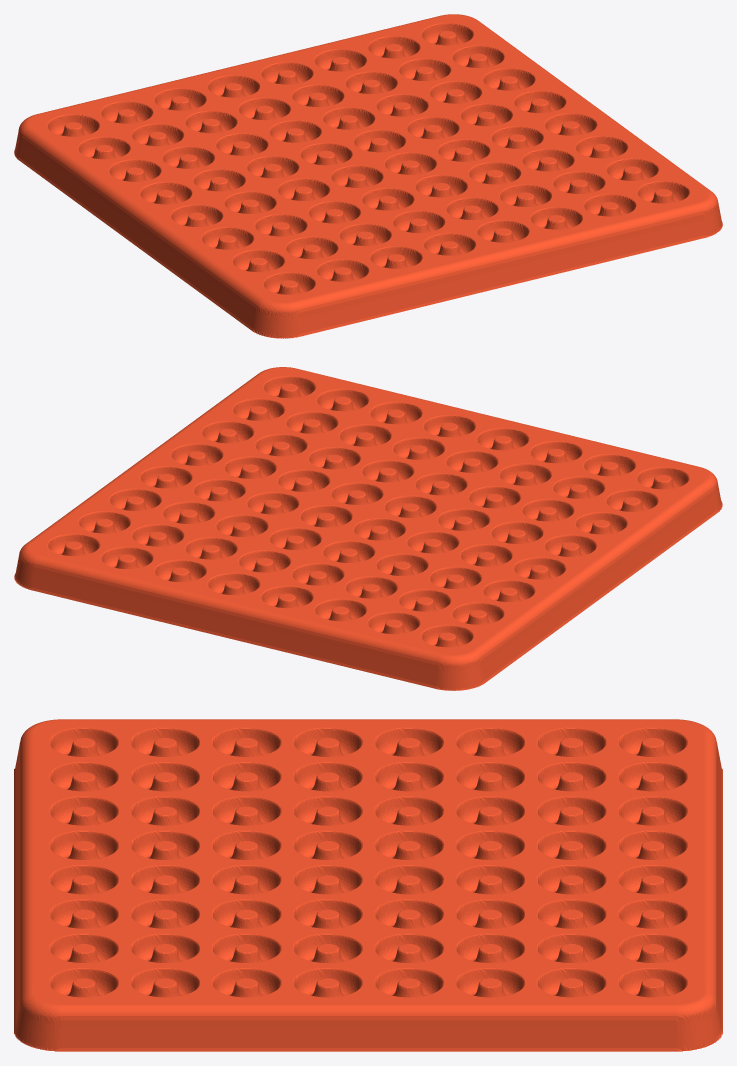
The model's file is mold.glb.
The picture shows the model from 3 angles, top to bottom: view 1: azimuth 30°, elevation 25°; view 2: azimuth 150°, elevation 25°; view 3: azimuth 270°, elevation 25°; orthographic projection. The views are drawn at different scales.
Visible parts, largest first — view 1: geometry_0; view 2: geometry_0; view 3: geometry_0.
Boxes of the visible parts, x1,y1,x2,y2 form: geometry_0: (14,14,722,338); geometry_0: (14,367,722,690); geometry_0: (14,719,722,1051).
Size of the model in its own units: 0.1355 by 0.0083 by 0.1355.
